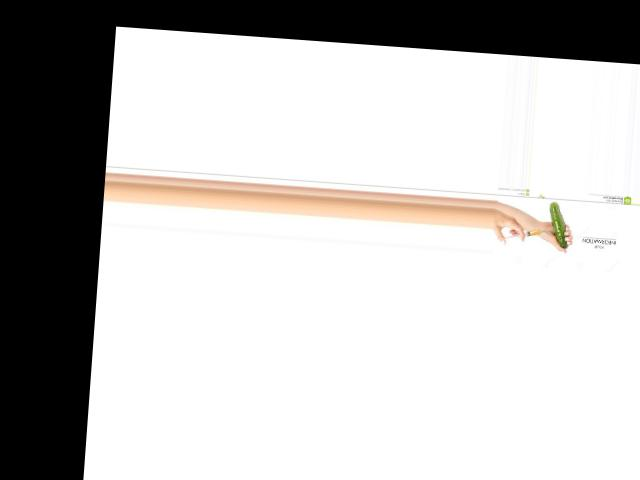cucumber: (546, 201, 570, 248)
